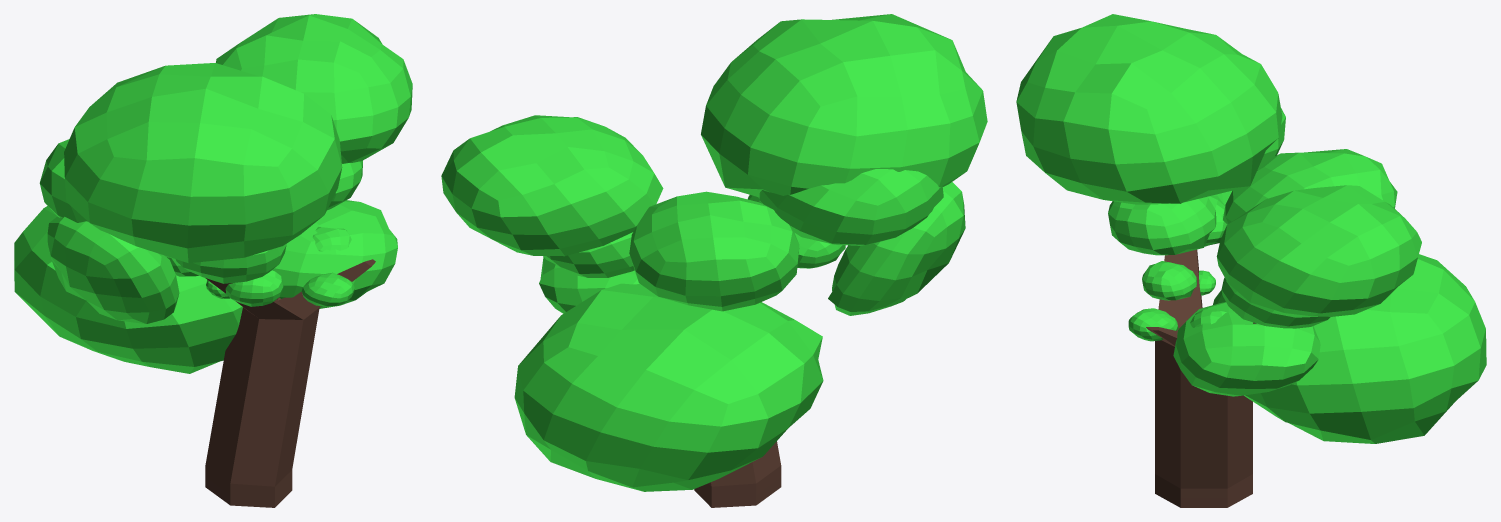
The model's file is Tree1.fbx.
3 renders of one model, left to right at view 1: azimuth 30°, elevation 25°; view 2: azimuth 150°, elevation 25°; view 3: azimuth 270°, elevation 25°, orthographic. The views are drawn at different scales.
Parts seen in each view (by area): view 1: Cube.006|Cube.007|Dupli|2, Cube.006, Cube.006|Cube.007|Dupli|5, Cube.006|Cube.007|Dupli|14, Cube.006|Cube.007|Dupli|10, Cube.006|Cube.007|Dupli|8, Cube.006|Cube.007|Dupli|1, Cube.006|Cube.007|Dupli|11, Cube.006|Cube.007|Dupli|3, Cube.006|Cube.007|Dupli|9, Cube.006|Cube.007|Dupli|4, Cube.006|Cube.007|Dupli|6; view 2: Cube.006|Cube.007|Dupli|14, Cube.006|Cube.007|Dupli|2, Cube.006|Cube.007|Dupli|5, Cube.006|Cube.007|Dupli|16, Cube.006|Cube.007|Dupli|11, Cube.006|Cube.007|Dupli|10, Cube.006, Cube.006|Cube.007|Dupli|8, Cube.006|Cube.007|Dupli|4, Cube.006|Cube.007|Dupli|13; view 3: Cube.006|Cube.007|Dupli|2, Cube.006|Cube.007|Dupli|14, Cube.006|Cube.007|Dupli|5, Cube.006, Cube.006|Cube.007|Dupli|8, Cube.006|Cube.007|Dupli|16, Cube.006|Cube.007|Dupli|1, Cube.006|Cube.007|Dupli|4, Cube.006|Cube.007|Dupli|3, Cube.006|Cube.007|Dupli|9, Cube.006|Cube.007|Dupli|13.
Boxes of the visible parts, <box> form: Cube.006|Cube.007|Dupli|2: <box>64,63,342,263</box>; Cube.006: <box>205,259,375,507</box>; Cube.006|Cube.007|Dupli|5: <box>216,14,412,163</box>; Cube.006|Cube.007|Dupli|14: <box>14,206,242,373</box>; Cube.006|Cube.007|Dupli|10: <box>47,216,179,323</box>; Cube.006|Cube.007|Dupli|8: <box>272,200,397,308</box>; Cube.006|Cube.007|Dupli|1: <box>175,244,286,283</box>; Cube.006|Cube.007|Dupli|11: <box>39,139,87,222</box>; Cube.006|Cube.007|Dupli|3: <box>225,270,283,306</box>; Cube.006|Cube.007|Dupli|9: <box>301,272,354,306</box>; Cube.006|Cube.007|Dupli|4: <box>327,160,362,210</box>; Cube.006|Cube.007|Dupli|6: <box>312,227,351,251</box>; Cube.006|Cube.007|Dupli|14: <box>514,283,823,491</box>; Cube.006|Cube.007|Dupli|2: <box>701,14,987,197</box>; Cube.006|Cube.007|Dupli|5: <box>441,115,663,256</box>; Cube.006|Cube.007|Dupli|16: <box>629,191,799,311</box>; Cube.006|Cube.007|Dupli|11: <box>759,169,943,245</box>; Cube.006|Cube.007|Dupli|10: <box>828,182,965,315</box>; Cube.006: <box>694,441,781,507</box>; Cube.006|Cube.007|Dupli|8: <box>539,257,639,313</box>; Cube.006|Cube.007|Dupli|4: <box>543,232,634,277</box>; Cube.006|Cube.007|Dupli|13: <box>795,233,845,268</box>; Cube.006|Cube.007|Dupli|2: <box>1016,14,1282,204</box>; Cube.006|Cube.007|Dupli|14: <box>1213,254,1486,443</box>; Cube.006|Cube.007|Dupli|5: <box>1216,185,1421,316</box>; Cube.006: <box>1146,249,1256,507</box>; Cube.006|Cube.007|Dupli|8: <box>1173,302,1320,396</box>; Cube.006|Cube.007|Dupli|16: <box>1223,149,1397,224</box>; Cube.006|Cube.007|Dupli|1: <box>1108,197,1216,255</box>; Cube.006|Cube.007|Dupli|4: <box>1221,277,1330,328</box>; Cube.006|Cube.007|Dupli|3: <box>1142,261,1196,300</box>; Cube.006|Cube.007|Dupli|9: <box>1128,308,1178,341</box>; Cube.006|Cube.007|Dupli|13: <box>1204,195,1227,246</box>.
Bounding box in the file's own units: 15786 × 16289 × 16243.
